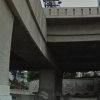Bridge: (9, 1, 94, 73)
